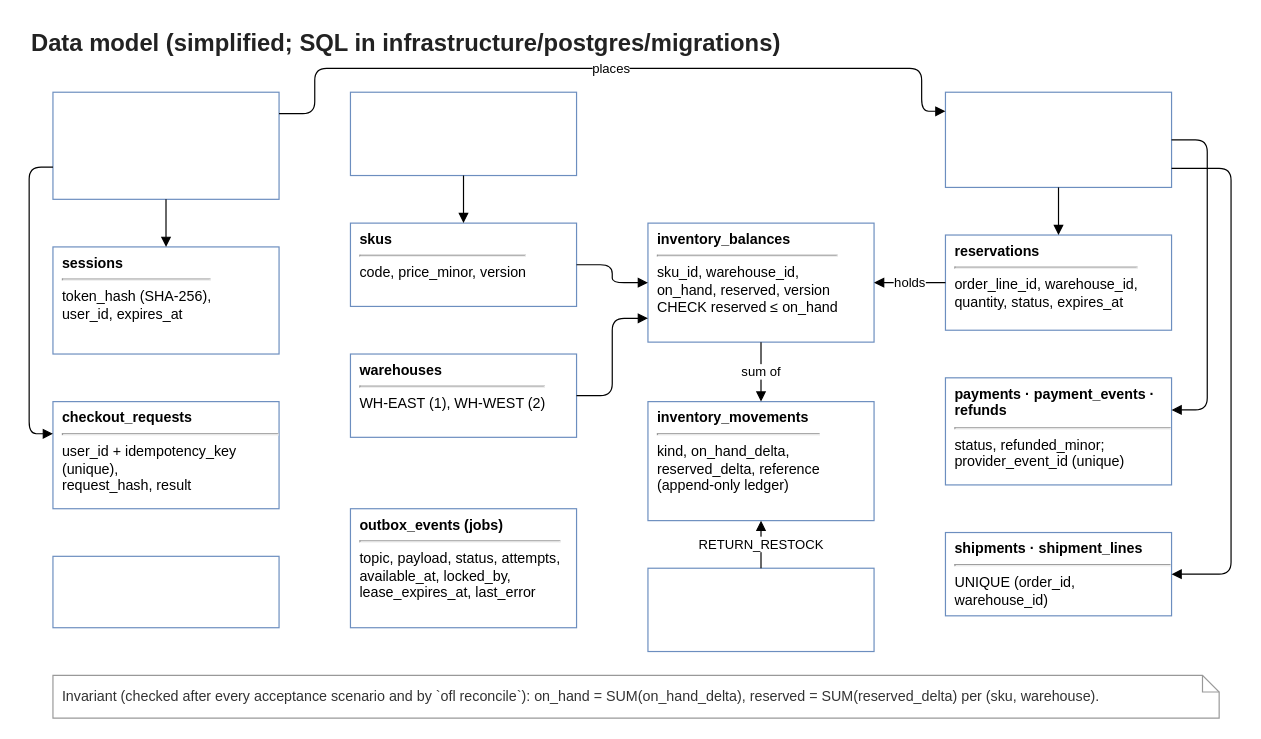
The diagram is 1261 pixels wide and 739 high, and some of its shapes have lost their labels. The centre of each missing label's shape, as x and y in pixels:
"audit_log actor, action, correlation_id" goes at (165,591).
"orders / order_lines status, customer_id, reservation_expires_at" goes at (1058,139).
"products / categories slug, name, version" goes at (463,133).
"returns · return_lines status, warehouse per line" goes at (760,609).
"users id, email, role, password_hash (Argon2id)" goes at (165,145).
